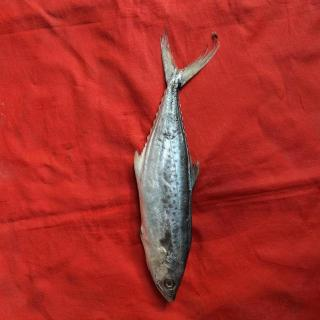Ikan: (121, 23, 235, 311)
